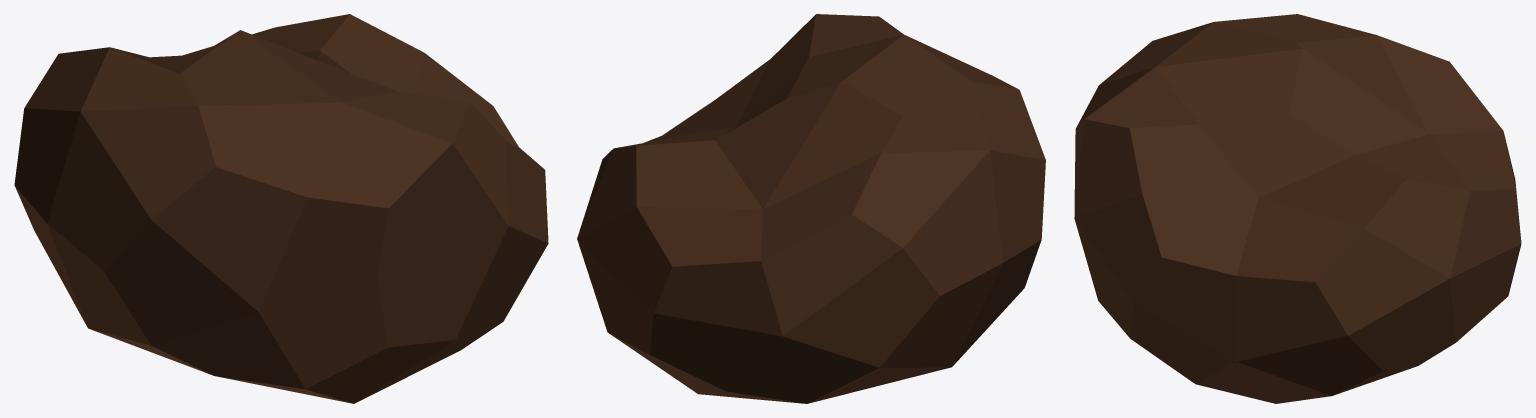
File: Boulder4.glb
The picture shows the model from 3 angles, left to right: view 1: azimuth 30°, elevation 25°; view 2: azimuth 150°, elevation 25°; view 3: azimuth 270°, elevation 25°; orthographic projection. The views are drawn at different scales.
Visible parts, largest first — view 1: Boulder4; view 2: Boulder4; view 3: Boulder4.
Part boxes in pixels (box(x1,y1,x2,y2)): Boulder4: box(14, 14, 548, 403); Boulder4: box(577, 14, 1045, 403); Boulder4: box(1074, 14, 1521, 403).
Size of the model in its own units: 1.31 by 0.9894 by 1.32.
